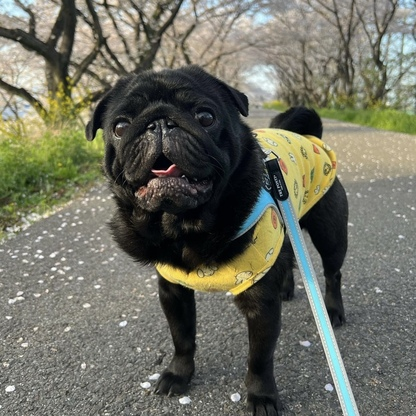Pug: (82, 62, 351, 416)
